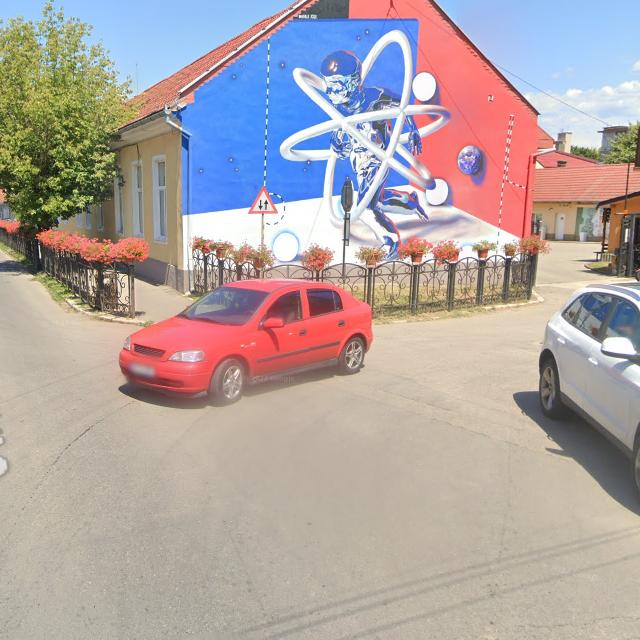warn_two_way_traffic: (247, 185, 278, 214)
